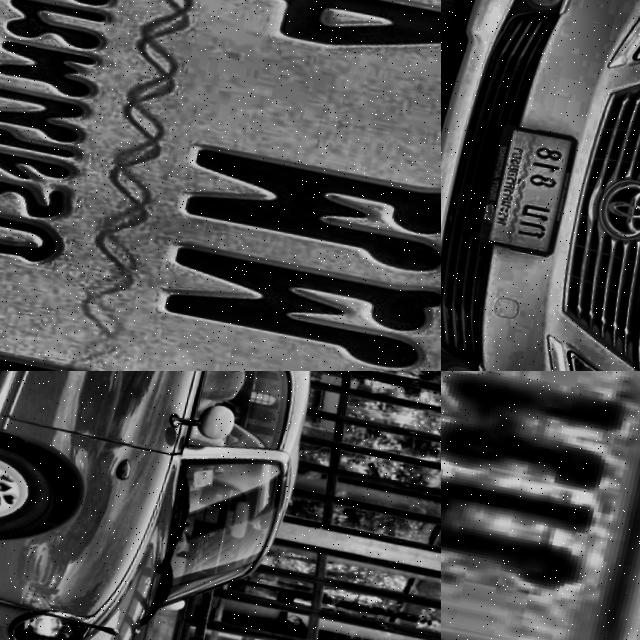license-plate: (0, 0, 441, 371), (441, 371, 640, 640), (477, 119, 586, 258)
